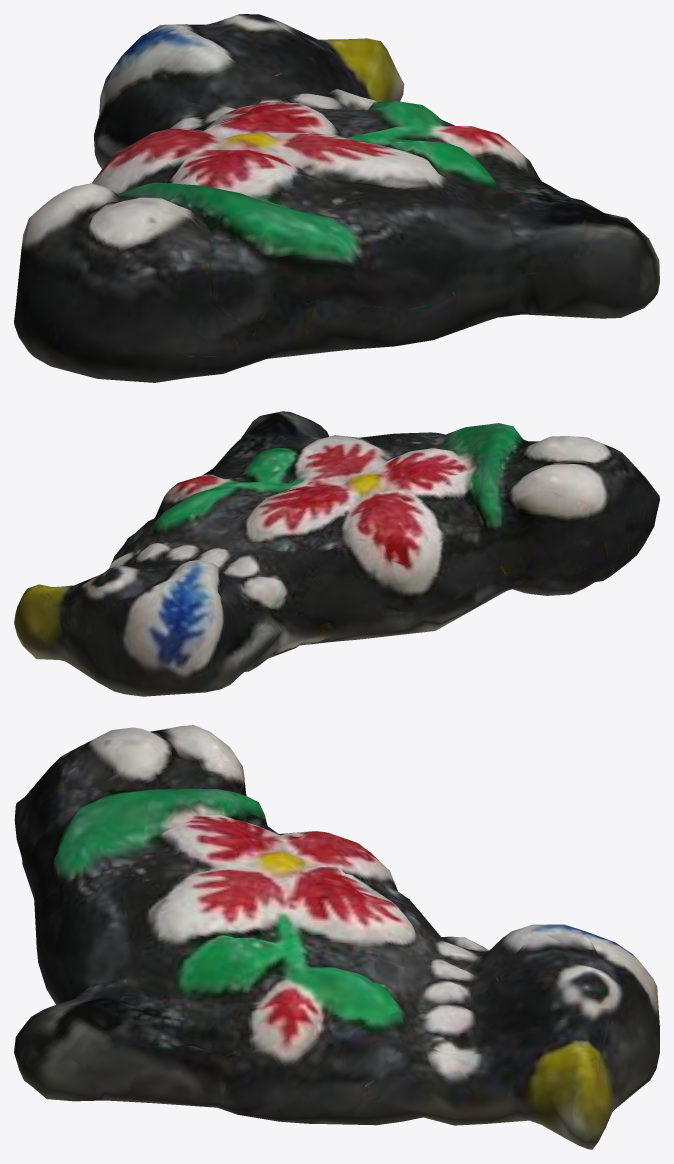
Rendered from hall.glb.
3 renders of one model, top to bottom at view 1: azimuth 30°, elevation 25°; view 2: azimuth 150°, elevation 25°; view 3: azimuth 270°, elevation 25°, orthographic. The views are drawn at different scales.
Bounding box in the file's own units: 0.5759 × 0.2051 × 0.5853.
1 material, 1 textured.
